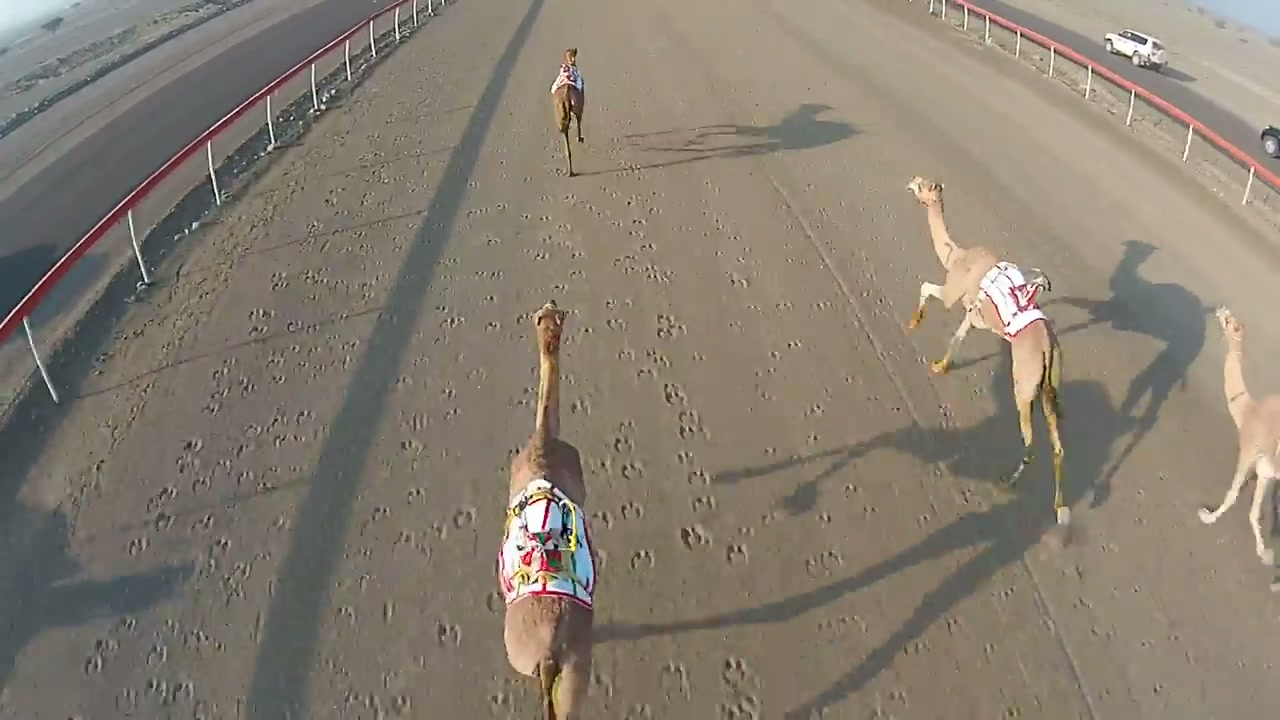animal_footprint: (102, 158, 413, 706), (335, 158, 600, 702), (589, 177, 797, 713)
